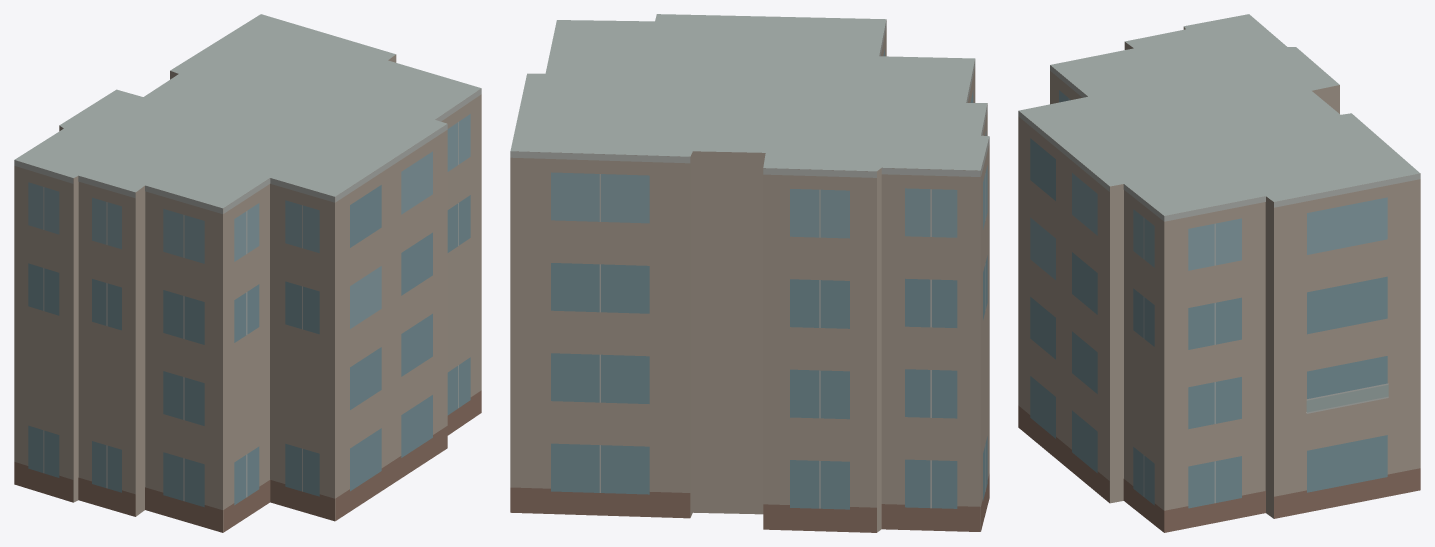
File: survey-upis-32508297.glb
3 views of the same model, side by side, from view 1: azimuth 30°, elevation 25°; view 2: azimuth 150°, elevation 25°; view 3: azimuth 270°, elevation 25° (orthographic). The views are drawn at different scales.
Parts seen in each view (by area): view 1: survey-upis-32508297.tmp; view 2: survey-upis-32508297.tmp; view 3: survey-upis-32508297.tmp.
Boxes of the visible parts, x1=… form: survey-upis-32508297.tmp: x1=14, y1=14, x2=481, y2=532; survey-upis-32508297.tmp: x1=510, y1=14, x2=989, y2=532; survey-upis-32508297.tmp: x1=1018, y1=14, x2=1420, y2=532.
Size of the model in its own units: 18.41 by 13.46 by 15.49.
